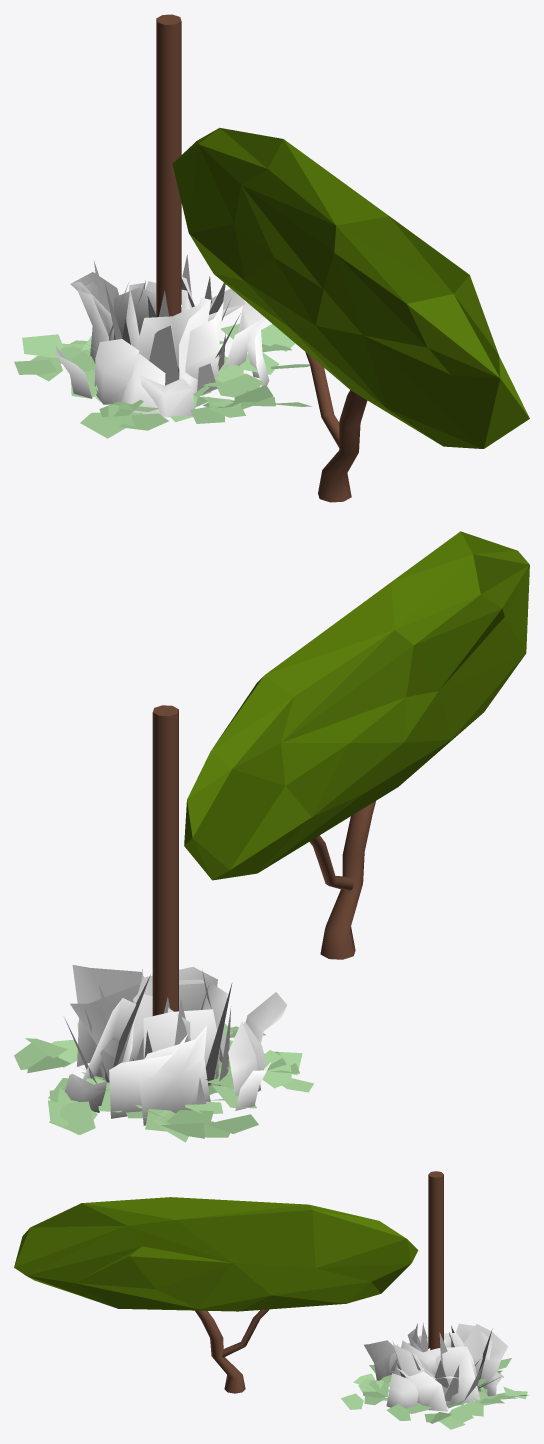
The model's file is Vegetation.fbx.
The picture shows the model from 3 angles, top to bottom: view 1: azimuth 30°, elevation 25°; view 2: azimuth 150°, elevation 25°; view 3: azimuth 270°, elevation 25°; orthographic projection. The views are drawn at different scales.
Parts seen in each view (by area): view 1: Grapes, GrassMesh, IvyPatch, LowpolyGrass; view 2: Grapes, GrassMesh, IvyPatch, LowpolyGrass; view 3: Grapes, GrassMesh, IvyPatch, LowpolyGrass.
Boxes of the visible parts, x1,y1,x2,y2 form: Grapes: [156, 14, 529, 502]; GrassMesh: [55, 272, 269, 417]; IvyPatch: [14, 324, 311, 438]; LowpolyGrass: [87, 255, 240, 393]; Grapes: [152, 531, 529, 1015]; GrassMesh: [64, 965, 286, 1125]; IvyPatch: [14, 1023, 313, 1142]; LowpolyGrass: [64, 969, 232, 1104]; Grapes: [14, 1171, 443, 1393]; GrassMesh: [364, 1323, 507, 1411]; IvyPatch: [341, 1358, 528, 1429]; LowpolyGrass: [393, 1323, 500, 1404].
Size of the model in its own units: 2.25 by 3.14 by 6.53.
